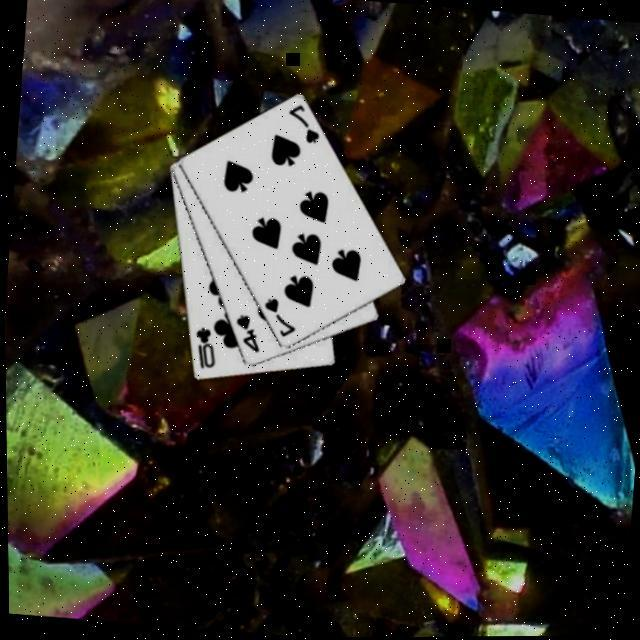10C: (187, 326, 218, 375)
4S: (227, 313, 262, 357)
7S: (255, 297, 298, 343), (280, 103, 323, 149)
